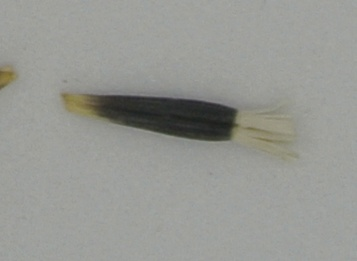เมล็ดดีติดกัน: (61, 85, 301, 166)
